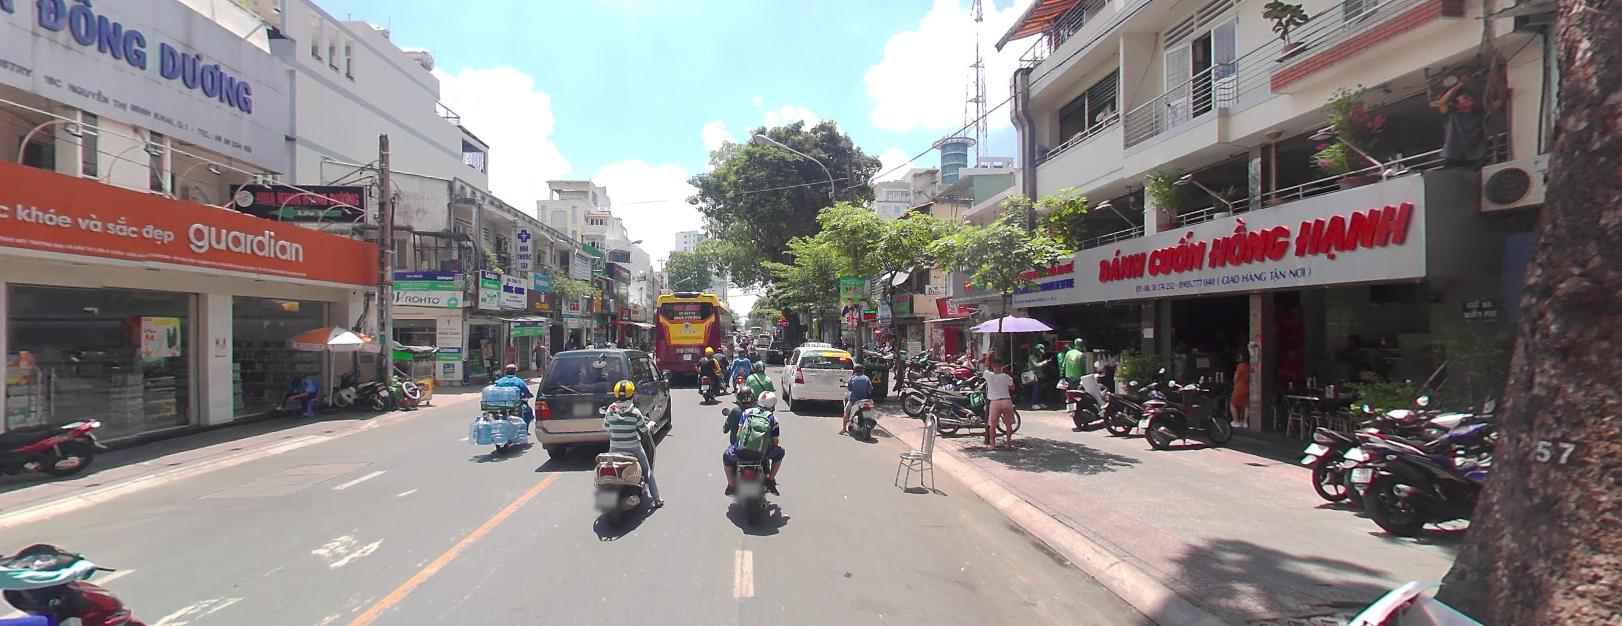Nguy hiem: (777, 311, 785, 318)
